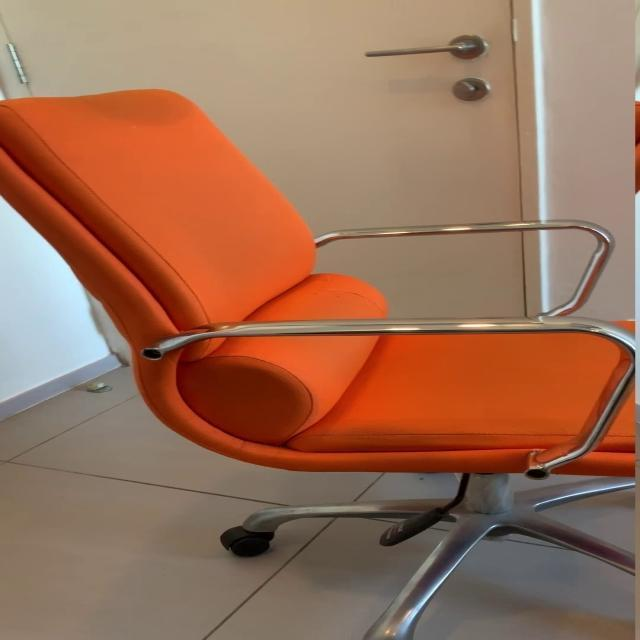chair: (4, 85, 640, 640)
